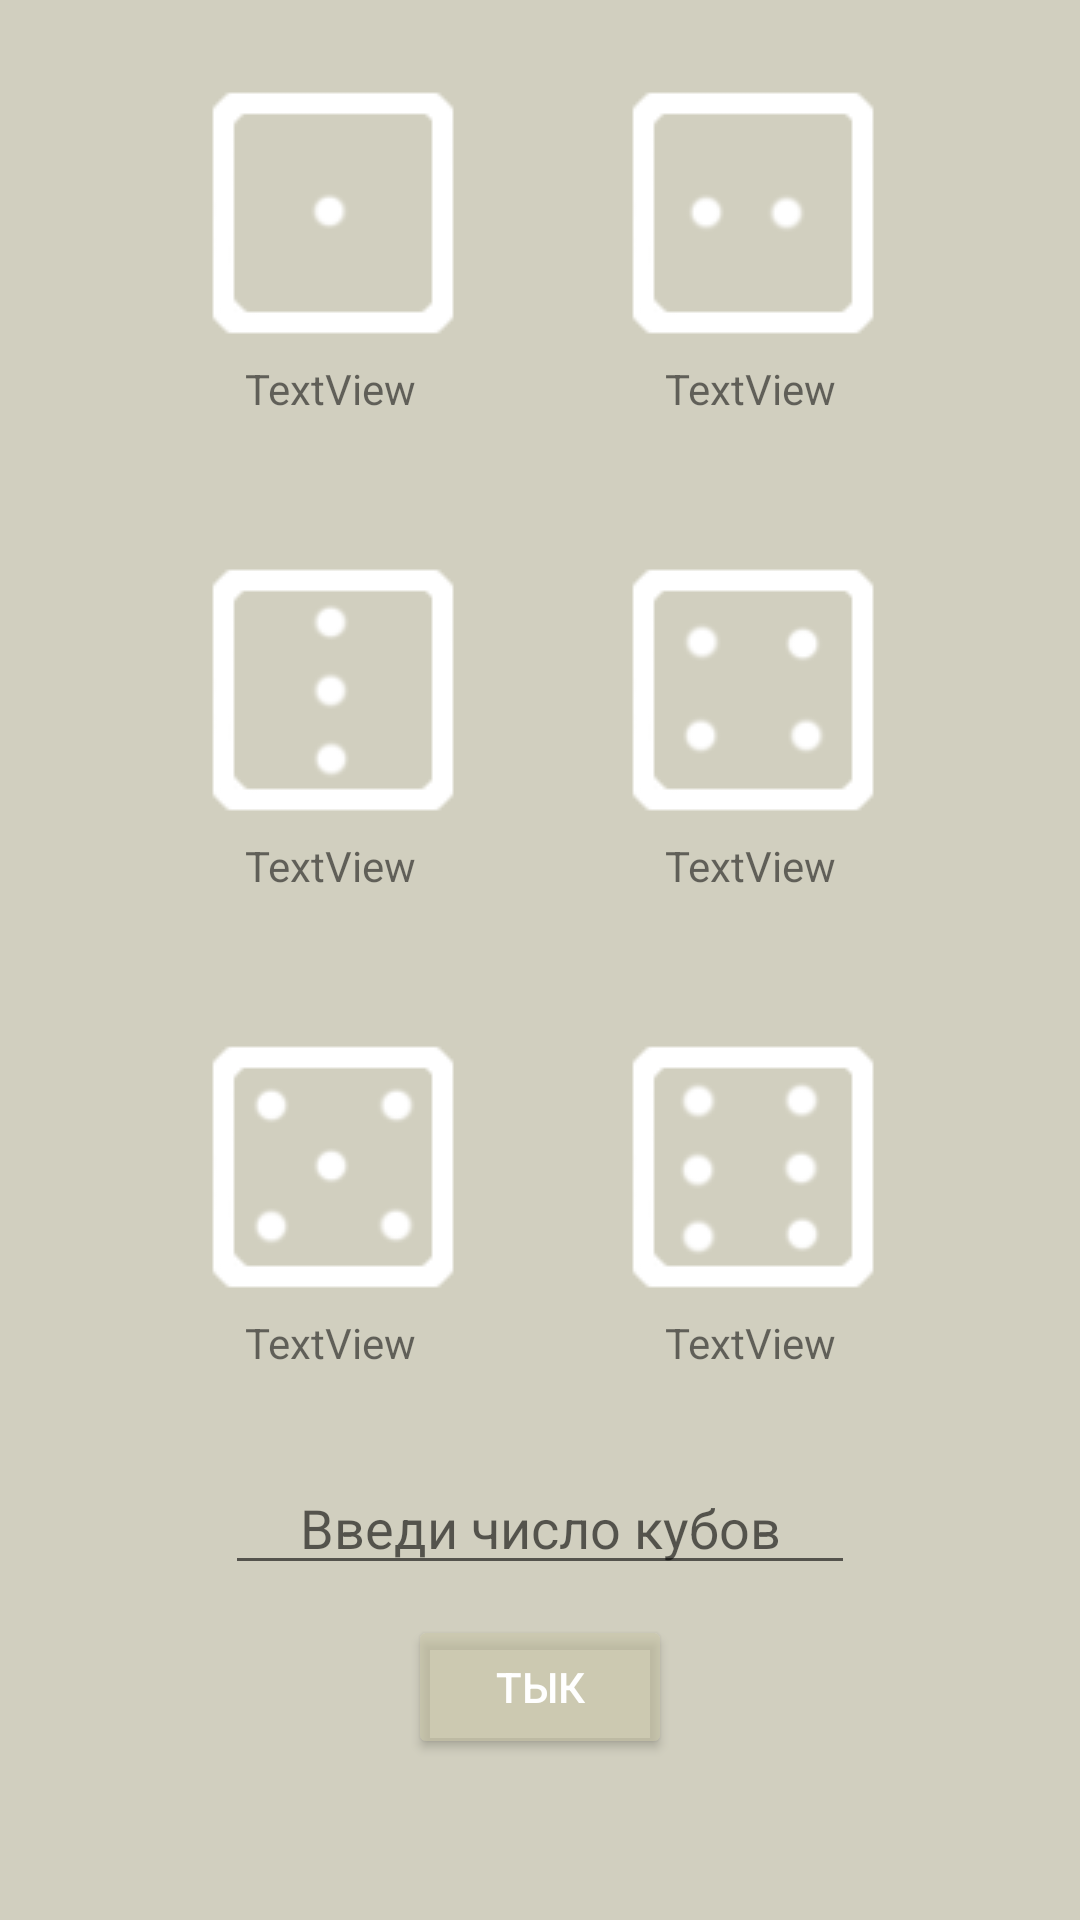

Icons on this 1080x1920 Android screen, each with the point to tap as (x,y):
six: (753,1167)
